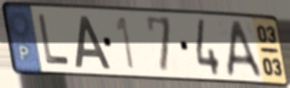1: (114, 15, 137, 72)
4: (194, 16, 223, 79)
7: (143, 14, 175, 76)
A: (225, 19, 265, 79), (73, 14, 112, 70)
L: (36, 12, 72, 68)
